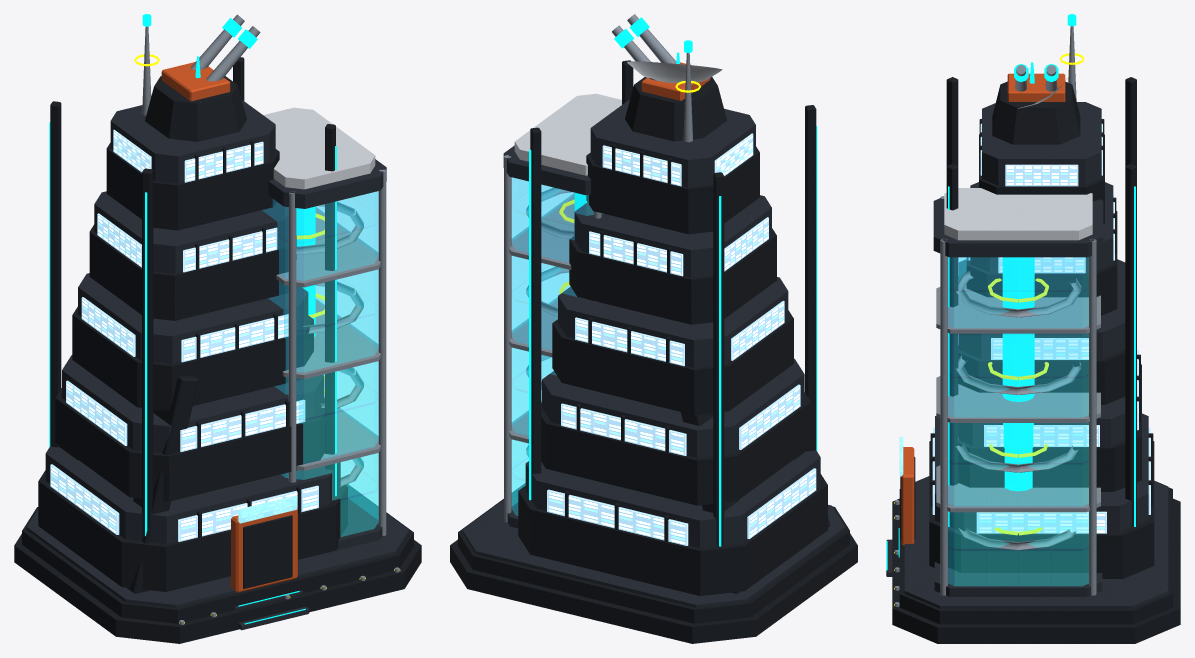
Rendered from bldg_20_r1_04.glb.
3 renders of one model, left to right at view 1: azimuth 30°, elevation 25°; view 2: azimuth 150°, elevation 25°; view 3: azimuth 270°, elevation 25°, orthographic. The views are drawn at different scales.
Visible parts, largest first — view 1: Bldg20_C04_gunmetal, Bldg20_C04_carbon_slate, Bldg20_C04_glass_cyan, Bldg20_C04_steel_machined, Bldg20_C04_window_lit, Bldg20_C04_aero_white, Bldg20_C04_led_cyan, Bldg20_C04_accent_orange, Bldg20_C04_marquee; view 2: Bldg20_C04_gunmetal, Bldg20_C04_carbon_slate, Bldg20_C04_window_lit, Bldg20_C04_glass_cyan, Bldg20_C04_steel_machined, Bldg20_C04_aero_white, Bldg20_C04_led_cyan, Bldg20_C04_accent_orange; view 3: Bldg20_C04_gunmetal, Bldg20_C04_glass_cyan, Bldg20_C04_carbon_slate, Bldg20_C04_steel_machined, Bldg20_C04_window_lit, Bldg20_C04_aero_white, Bldg20_C04_led_cyan, Bldg20_C04_accent_orange, Bldg20_C04_led_amber.
Part boxes in pixels (x1,y1,x2,y2): Bldg20_C04_gunmetal: [14, 57, 421, 643]; Bldg20_C04_carbon_slate: [26, 100, 409, 630]; Bldg20_C04_glass_cyan: [262, 191, 378, 536]; Bldg20_C04_steel_machined: [142, 14, 399, 624]; Bldg20_C04_window_lit: [50, 129, 318, 541]; Bldg20_C04_aero_white: [263, 107, 375, 189]; Bldg20_C04_led_cyan: [49, 14, 336, 624]; Bldg20_C04_accent_orange: [161, 62, 297, 592]; Bldg20_C04_marquee: [238, 495, 297, 523]; Bldg20_C04_gunmetal: [450, 60, 857, 643]; Bldg20_C04_carbon_slate: [462, 99, 845, 607]; Bldg20_C04_window_lit: [547, 133, 816, 545]; Bldg20_C04_glass_cyan: [511, 177, 602, 515]; Bldg20_C04_steel_machined: [504, 14, 692, 522]; Bldg20_C04_aero_white: [514, 61, 722, 175]; Bldg20_C04_led_cyan: [529, 17, 817, 546]; Bldg20_C04_accent_orange: [641, 62, 710, 100]; Bldg20_C04_gunmetal: [892, 77, 1180, 643]; Bldg20_C04_glass_cyan: [948, 257, 1088, 585]; Bldg20_C04_carbon_slate: [886, 102, 1168, 608]; Bldg20_C04_steel_machined: [894, 26, 1100, 606]; Bldg20_C04_window_lit: [932, 117, 1150, 533]; Bldg20_C04_aero_white: [944, 74, 1092, 240]; Bldg20_C04_led_cyan: [886, 14, 1135, 570]; Bldg20_C04_accent_orange: [901, 73, 1065, 545]; Bldg20_C04_led_amber: [894, 53, 1084, 605].
Bounding box in the file's own units: 12.5 × 21.32 × 10.71.
Materials: 10 (10 with a texture image).
